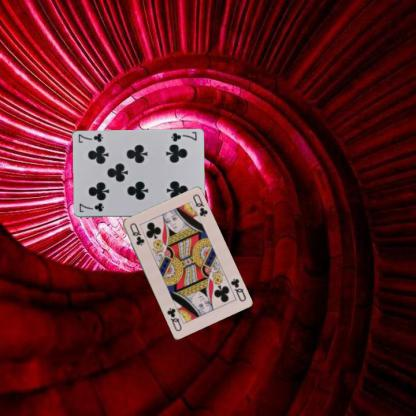7c: (168, 129, 198, 143), (77, 201, 105, 213)
Qc: (127, 220, 146, 247), (228, 275, 247, 302)
